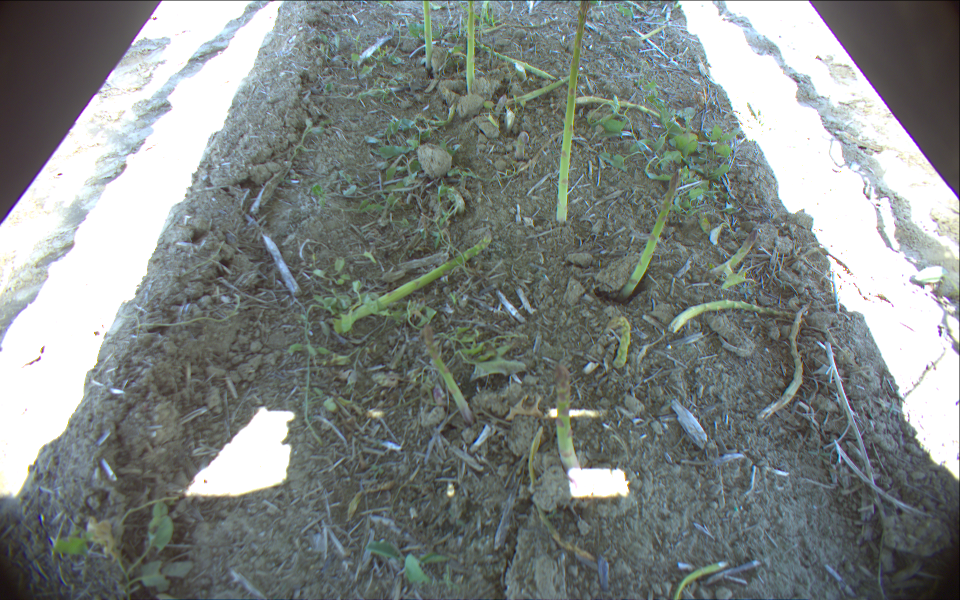aspa: (613, 170, 682, 305), (554, 1, 591, 224), (547, 361, 587, 491), (465, 1, 478, 100), (419, 1, 437, 72)
